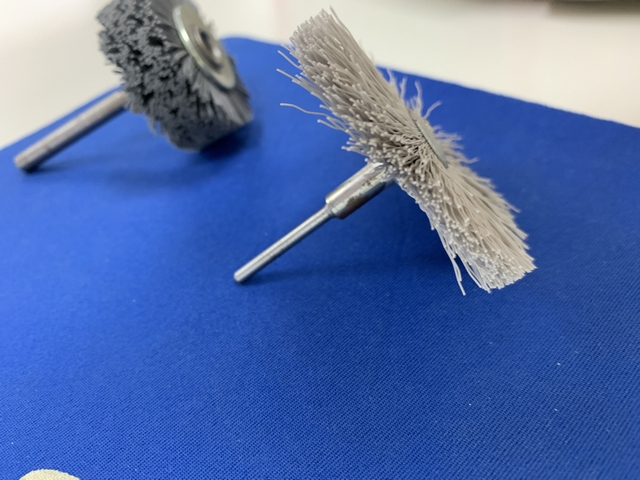TOOL: (246, 5, 538, 304)
Wheel Brush: (19, 1, 263, 191)
